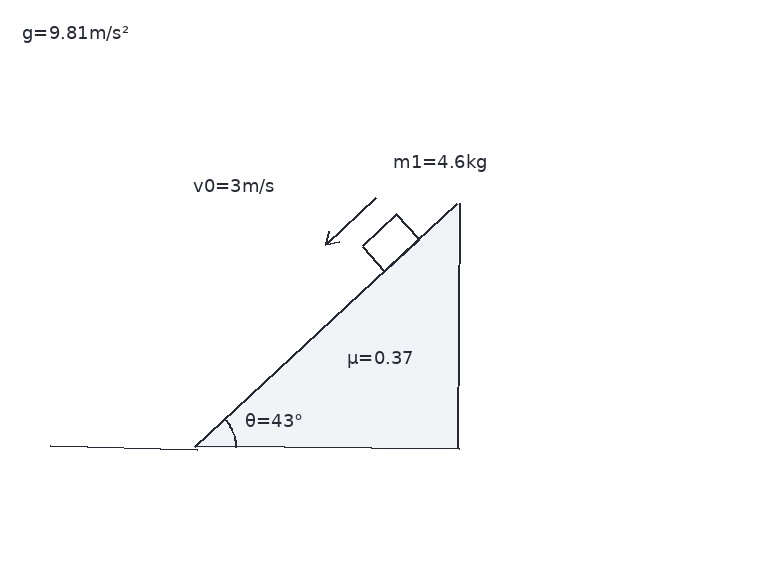block: (359, 213, 421, 273)
ramp: (194, 201, 460, 449)
